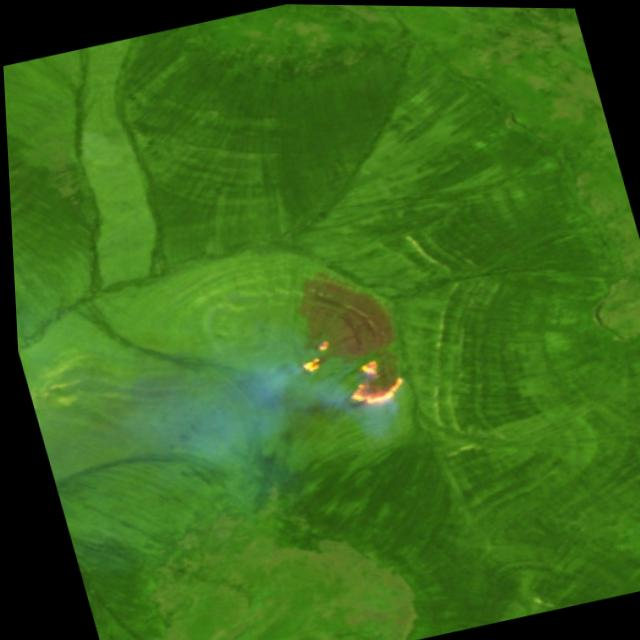fire: (282, 316, 411, 421)
